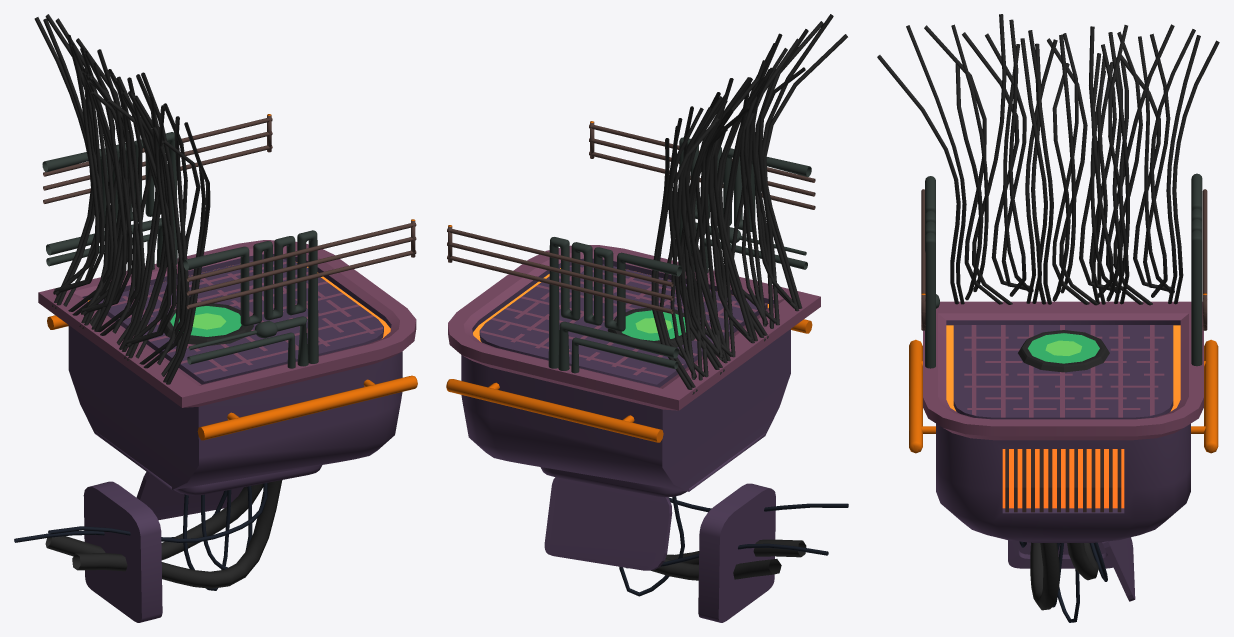
Rendered from Start_finish (1).fbx.
3 views of the same model, side by side, from view 1: azimuth 30°, elevation 25°; view 2: azimuth 150°, elevation 25°; view 3: azimuth 270°, elevation 25° (orthographic). The views are drawn at different scales.
Visible parts, largest first — view 1: Cylinder.007; view 2: Cylinder.007; view 3: Cylinder.007.
Part boxes in pixels (x1,y1,x2,y2): Cylinder.007: [14, 14, 417, 622]; Cylinder.007: [446, 14, 848, 622]; Cylinder.007: [877, 14, 1219, 622].
Size of the model in its own units: 559 by 876 by 487.
